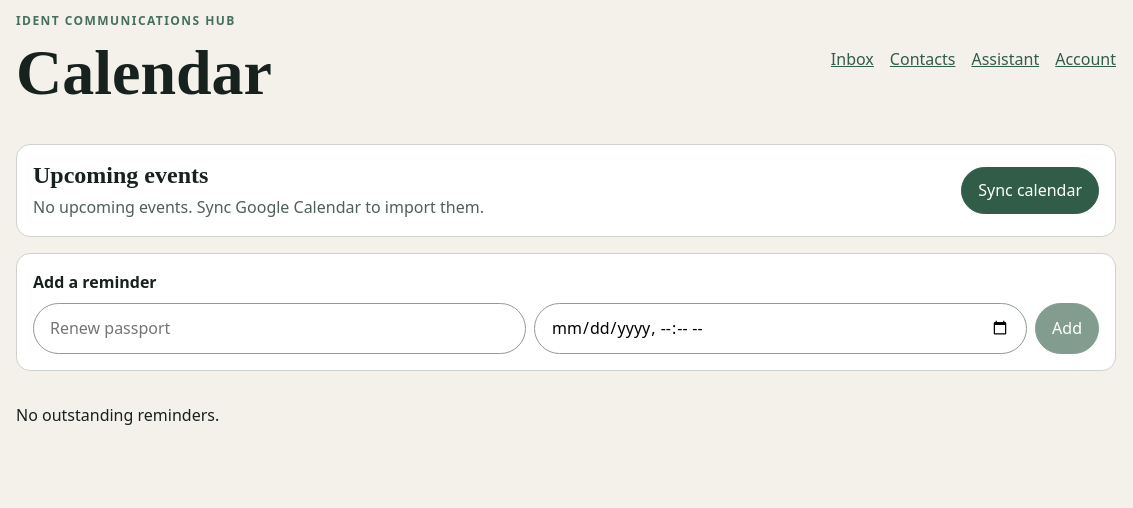
Test: CalendarClient › surfaces the reconnect prompt when the grant predates calendar scope
The image size is (1133, 508).
Click the button "Sync calendar" at {"x": 1030, "y": 190}, box [961, 167, 1099, 214]
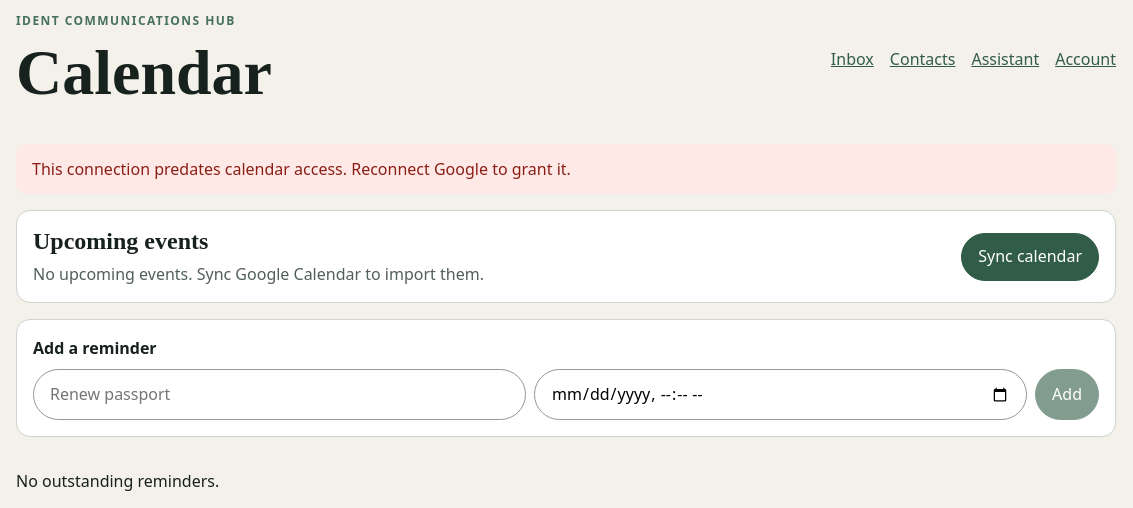
Result: the message shows "predates calendar access" at [32, 158, 571, 180]
